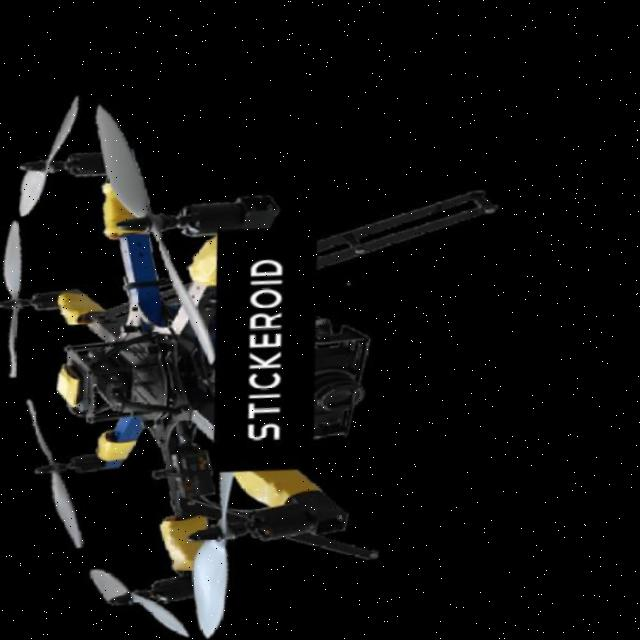drones: (0, 42, 572, 640)
